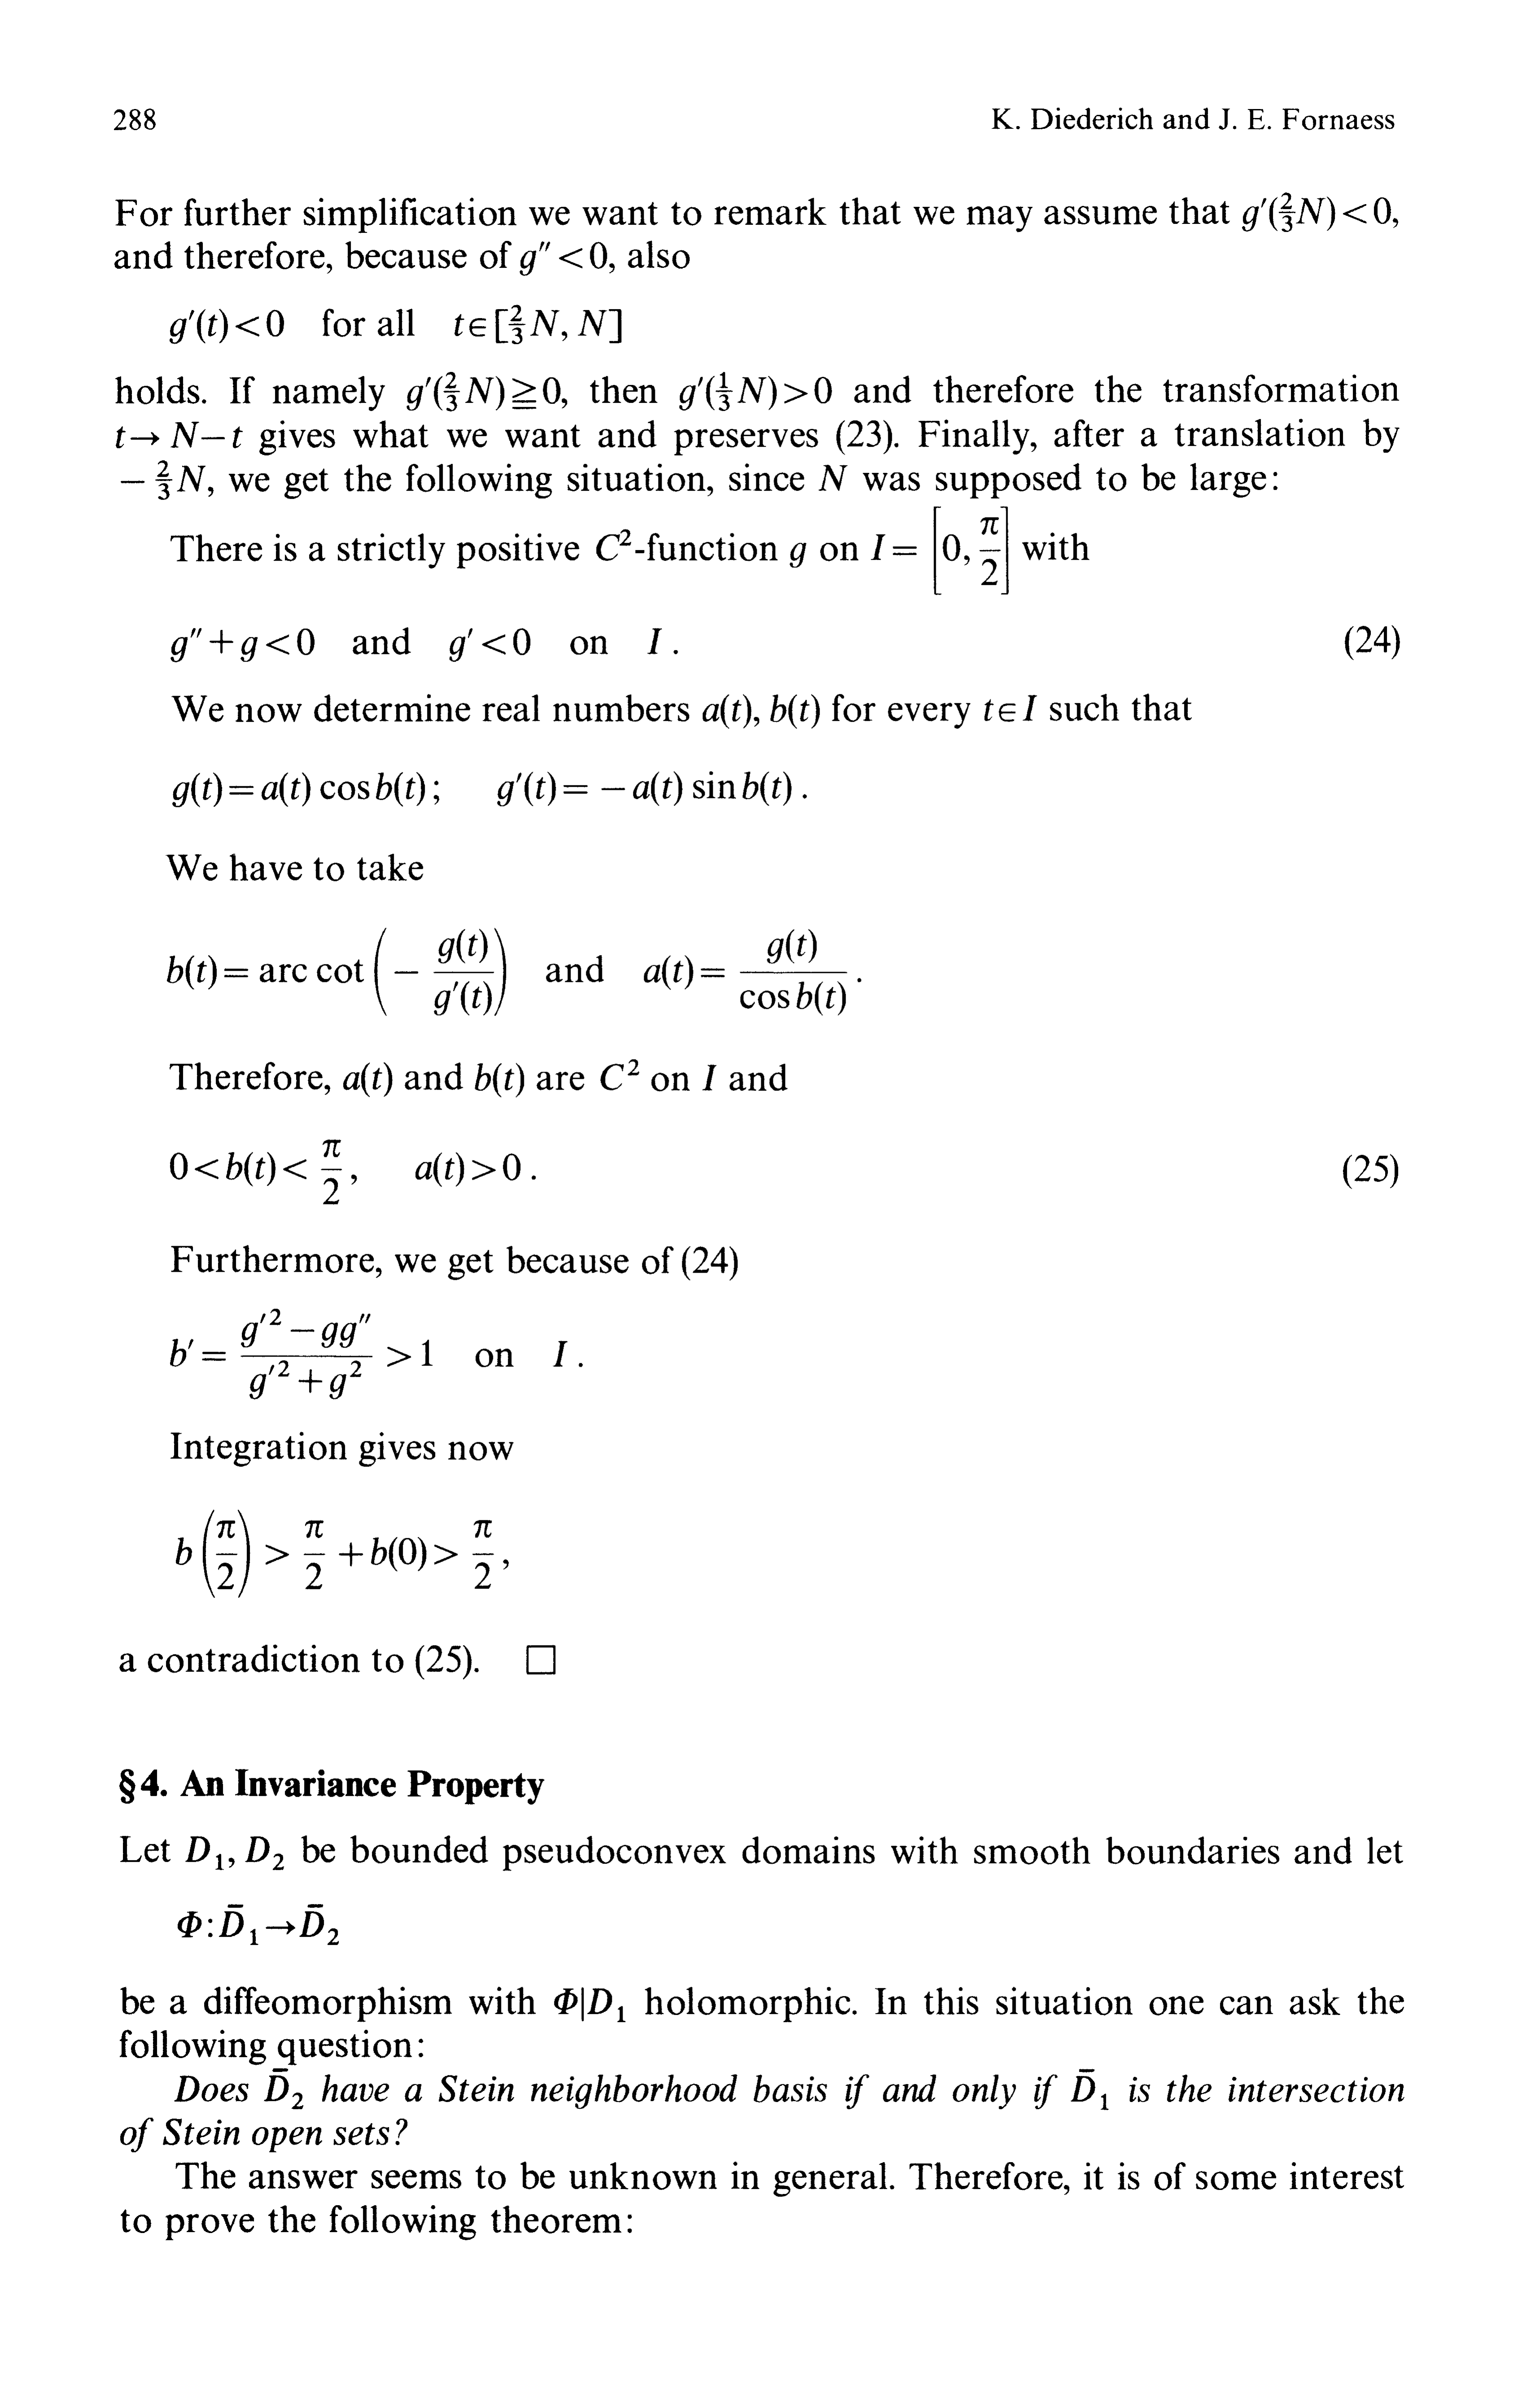maths: (166, 927, 505, 1016), (177, 1509, 493, 1597), (170, 1310, 432, 1399), (644, 929, 846, 1014), (871, 505, 1009, 595), (170, 1140, 341, 1203), (497, 771, 790, 806), (171, 771, 425, 806), (178, 1904, 338, 1945), (455, 304, 621, 343), (406, 372, 567, 411), (1242, 192, 1397, 231), (679, 372, 832, 411), (170, 628, 315, 661), (170, 308, 283, 343), (703, 694, 820, 727), (416, 1152, 519, 1186), (121, 460, 205, 500), (115, 421, 243, 448), (519, 241, 614, 276), (185, 1836, 283, 1869), (449, 628, 530, 661), (554, 1987, 624, 2022), (343, 1061, 392, 1096), (476, 1063, 523, 1096), (264, 2069, 303, 2109), (1070, 2069, 1109, 2109), (985, 694, 1037, 720), (600, 1060, 638, 1089), (596, 530, 631, 560), (818, 465, 846, 490), (790, 542, 806, 567), (647, 628, 661, 654), (553, 1341, 567, 1366), (703, 1065, 715, 1089)
